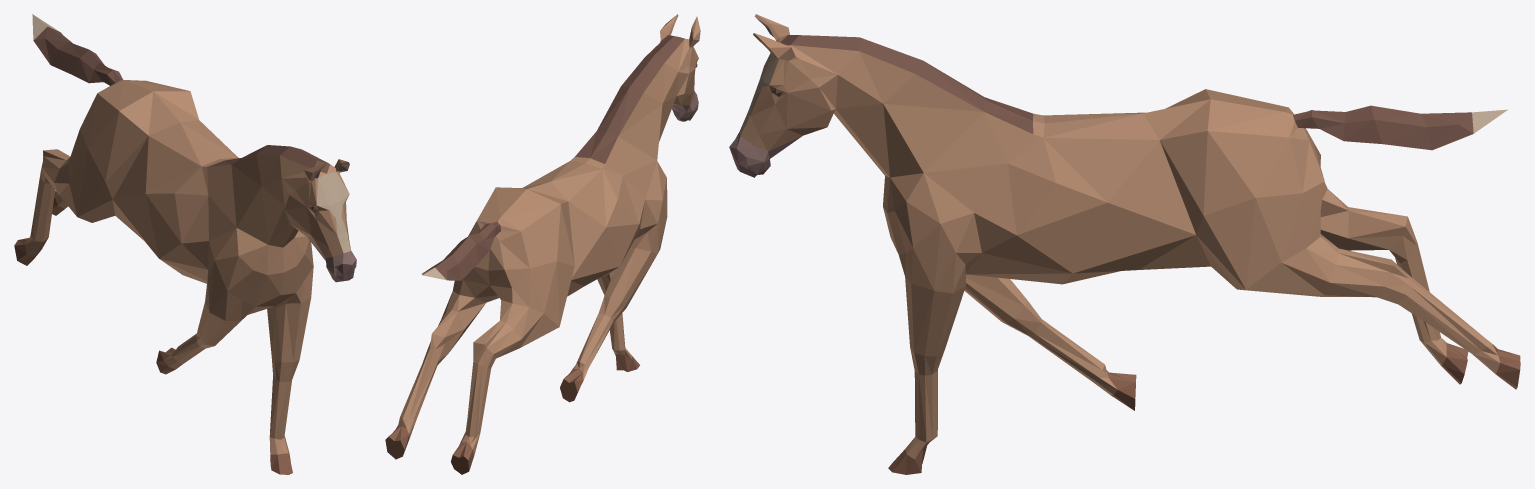
File: Horse.glb
3 renders of one model, left to right at view 1: azimuth 30°, elevation 25°; view 2: azimuth 150°, elevation 25°; view 3: azimuth 270°, elevation 25°, orthographic. The views are drawn at different scales.
Parts seen in each view (by area): view 1: mesh_0; view 2: mesh_0; view 3: mesh_0.
Part boxes in pixels (box(x1,y1,x2,y2)): mesh_0: box(14, 14, 356, 474); mesh_0: box(385, 14, 700, 474); mesh_0: box(729, 14, 1520, 474).
Bounding box in the file's own units: 63.47 × 188 × 303.
